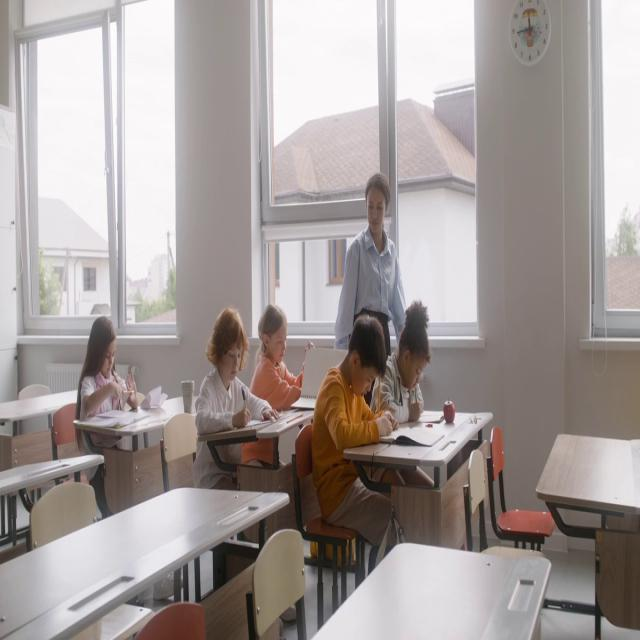reading: (250, 305, 310, 419)
writing: (309, 314, 413, 577), (194, 309, 282, 495), (78, 317, 136, 460), (369, 302, 429, 429)
